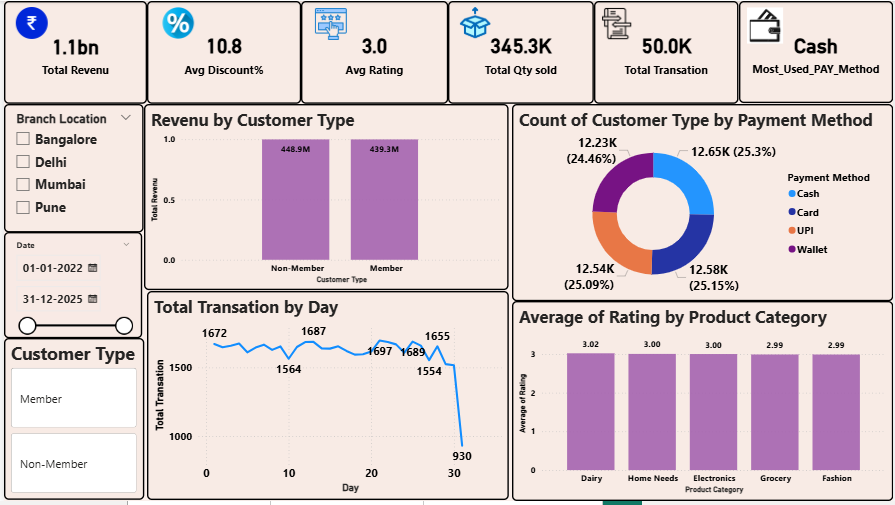

The page's visual inventory and layout, read from the dashboard file:
{"tool":"powerbi","page":{"name":"Customers and payments","canvas":[1280,720],"ordinal":2},"visuals":[{"type":"card","fields":{"Values":["dmart_data.Total Transation"]},"box":[850,0,208.3,147.8],"z":0},{"type":"card","fields":{"Values":["dmart_data.Avg Discount%"]},"box":[206.6,0,221.7,147.8],"z":1000},{"type":"card","fields":{"Values":["dmart_data.Avg Rating"]},"box":[428.3,0,211.7,147.8],"z":2000},{"type":"card","fields":{"Values":["dmart_data.Total Qty sold"]},"box":[640,0,210,147.8],"z":3000},{"type":"card","fields":{"Values":["dmart_data.Total Revenu"]},"box":[0,0,205.9,148.3],"z":4000},{"type":"card","fields":{"Values":["dmart_data.Most_Used_PAY_Method"]},"box":[1058.4,0,221.6,147.2],"z":5000},{"type":"columnChart","title":"Revenu by Customer Type","fields":{"Category":["dmart_data.Customer Type"],"Y":["dmart_data.Total Revenu"]},"box":[201.7,148.3,525,268.3],"z":6000},{"type":"image","box":[0,8.6,79.2,46.1],"z":7000},{"type":"image","box":[205.9,8.6,90.7,46.1],"z":8000},{"type":"image","box":[406.1,8.6,128.2,49],"z":9000},{"type":"image","box":[859.7,0,44.6,64.8],"z":10000},{"type":"image","box":[625,7.2,106.6,47.5],"z":11000},{"type":"image","box":[1069.9,4.3,51.8,61.9],"z":12000},{"type":"donutChart","fields":{"Category":["dmart_data.Payment Method"],"Y":["CountNonNull(dmart_data.Customer Type)"]},"box":[731.2,148.8,548.8,283.8],"z":13000},{"type":"columnChart","fields":{"Category":["dmart_data.Product Category"],"Y":["Avg(dmart_data.Rating)"]},"box":[731.2,432.5,548.8,287.5],"z":14000},{"type":"lineChart","fields":{"Y":["dmart_data.Total Transation"],"Category":["dmart_data.Date.Variation.Date Hierarchy.Day"]},"box":[205.7,417.1,521.4,301.4],"z":15000},{"type":"advancedSlicerVisual","fields":{"Values":["dmart_data.Customer Type"]},"box":[0,485.3,201.6,233.3],"z":16000},{"type":"slicer","fields":{"Values":["dmart_data.Branch Location"]},"box":[0,148.8,201.2,185],"z":17000},{"type":"slicer","title":"Dates","fields":{"Values":["dmart_data.Date"]},"box":[0,332.6,198.7,152.6],"z":17001}]}

Visuals, with their boxes in screenshot pixels (x1, y1, x2, y2), scaled from the page's 1280x720 canvas onto the 895x505 screenshot:
card - dmart_data.Total Transation: 594:0:740:104
card - dmart_data.Avg Discount%: 144:0:299:104
card - dmart_data.Avg Rating: 299:0:448:104
card - dmart_data.Total Qty sold: 448:0:594:104
card - dmart_data.Total Revenu: 0:0:144:104
card - dmart_data.Most_Used_PAY_Method: 740:0:894:103
"Revenu by Customer Type" columnChart: 141:104:508:292
image: 0:6:55:38
image: 144:6:207:38
image: 284:6:374:40
image: 601:0:632:45
image: 437:5:512:38
image: 748:3:784:46
donutChart - dmart_data.Payment Method x CountNonNull(dmart_data.Customer Type): 511:104:894:303
columnChart - dmart_data.Product Category x Avg(dmart_data.Rating): 511:303:894:504
lineChart - dmart_data.Total Transation x dmart_data.Date.Variation.Date Hierarchy.Day: 144:293:508:504
advancedSlicerVisual - dmart_data.Customer Type: 0:340:141:504
slicer - dmart_data.Branch Location: 0:104:141:234
"Dates" slicer: 0:233:139:340
